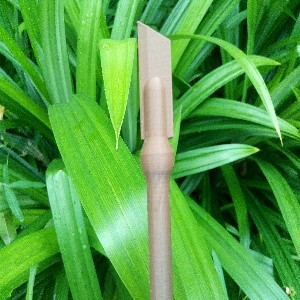cutter: (136, 20, 176, 300)
